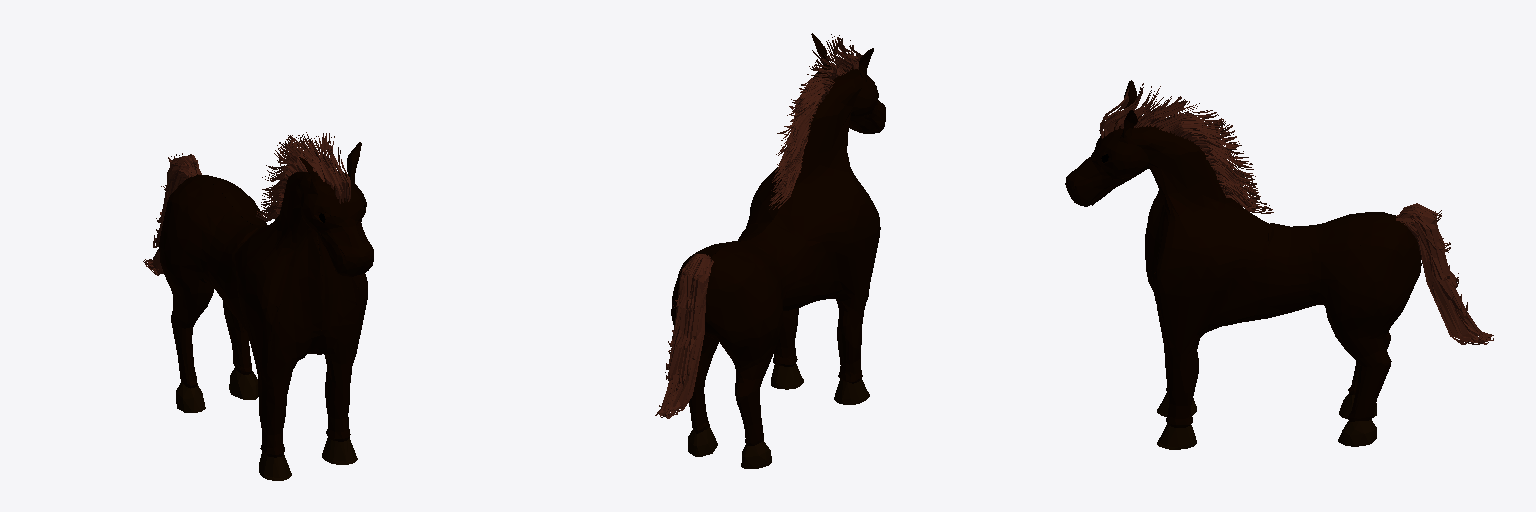
The model's file is horse_no_hair_w_color_2.obj.
3 renders of one model, left to right at view 1: azimuth 30°, elevation 25°; view 2: azimuth 150°, elevation 25°; view 3: azimuth 270°, elevation 25°, orthographic.
Visible parts, largest first — view 1: Body_Cube.002, Hair_Mesh.004, Hooves_Cube.000; view 2: Body_Cube.002, Hair_Mesh.004, Hooves_Cube.000; view 3: Body_Cube.002, Hair_Mesh.004, Hooves_Cube.000.
Boxes of the visible parts, <box> form: Body_Cube.002: <box>159,142,373,457</box>; Hair_Mesh.004: <box>143,132,350,275</box>; Hooves_Cube.000: <box>176,368,357,480</box>; Body_Cube.002: <box>671,33,885,445</box>; Hair_Mesh.004: <box>655,34,862,418</box>; Hooves_Cube.000: <box>688,364,869,468</box>; Body_Cube.002: <box>1065,80,1421,427</box>; Hair_Mesh.004: <box>1099,83,1493,344</box>; Hooves_Cube.000: <box>1157,393,1376,449</box>.
Size of the model in its own units: 1.49 by 4.5 by 5.1.